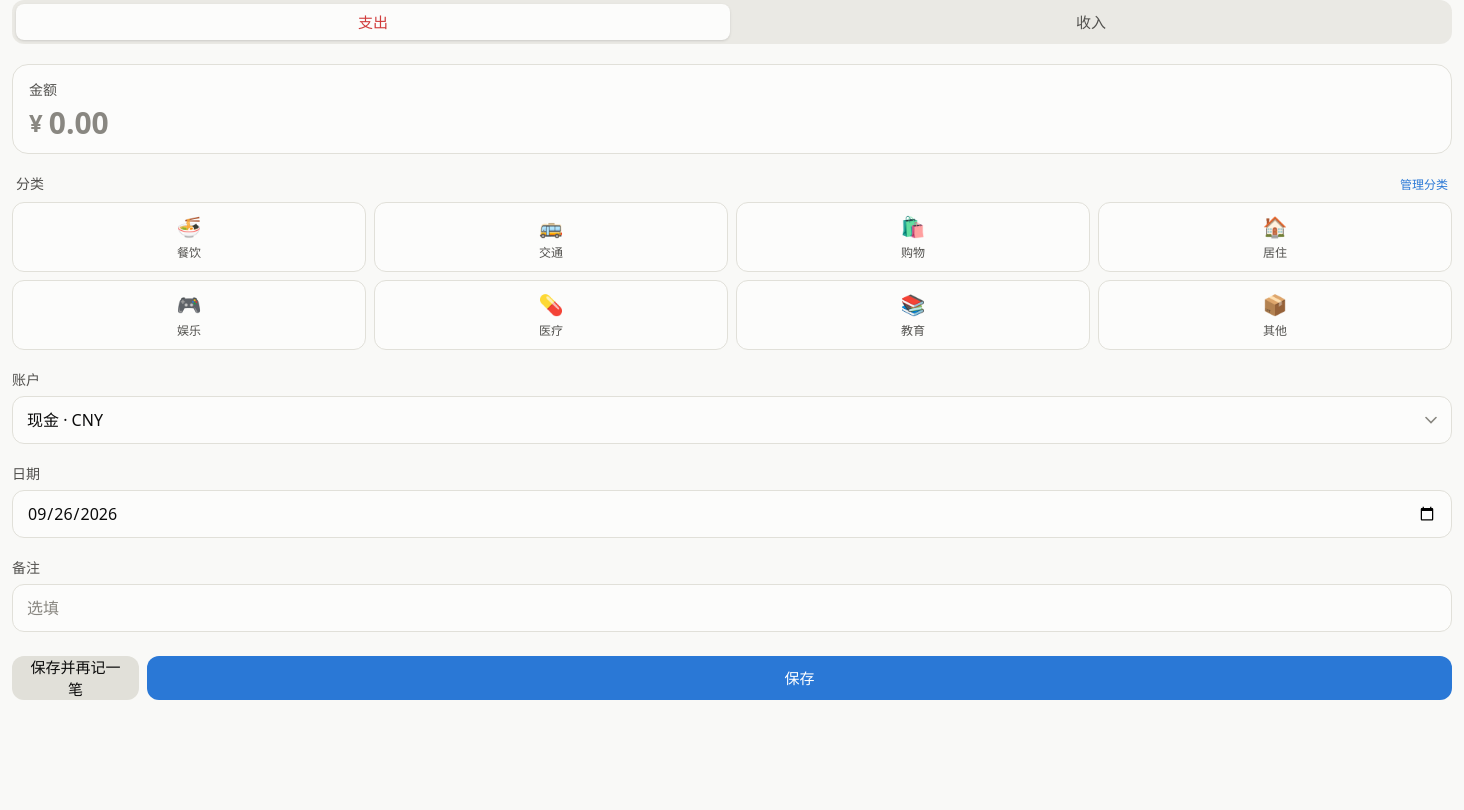
记一笔 › 没选分类就保存 → 提示且不写入
In the field with id "tx-amount": [742, 123] box [49,105,1435,141], type "12.30"
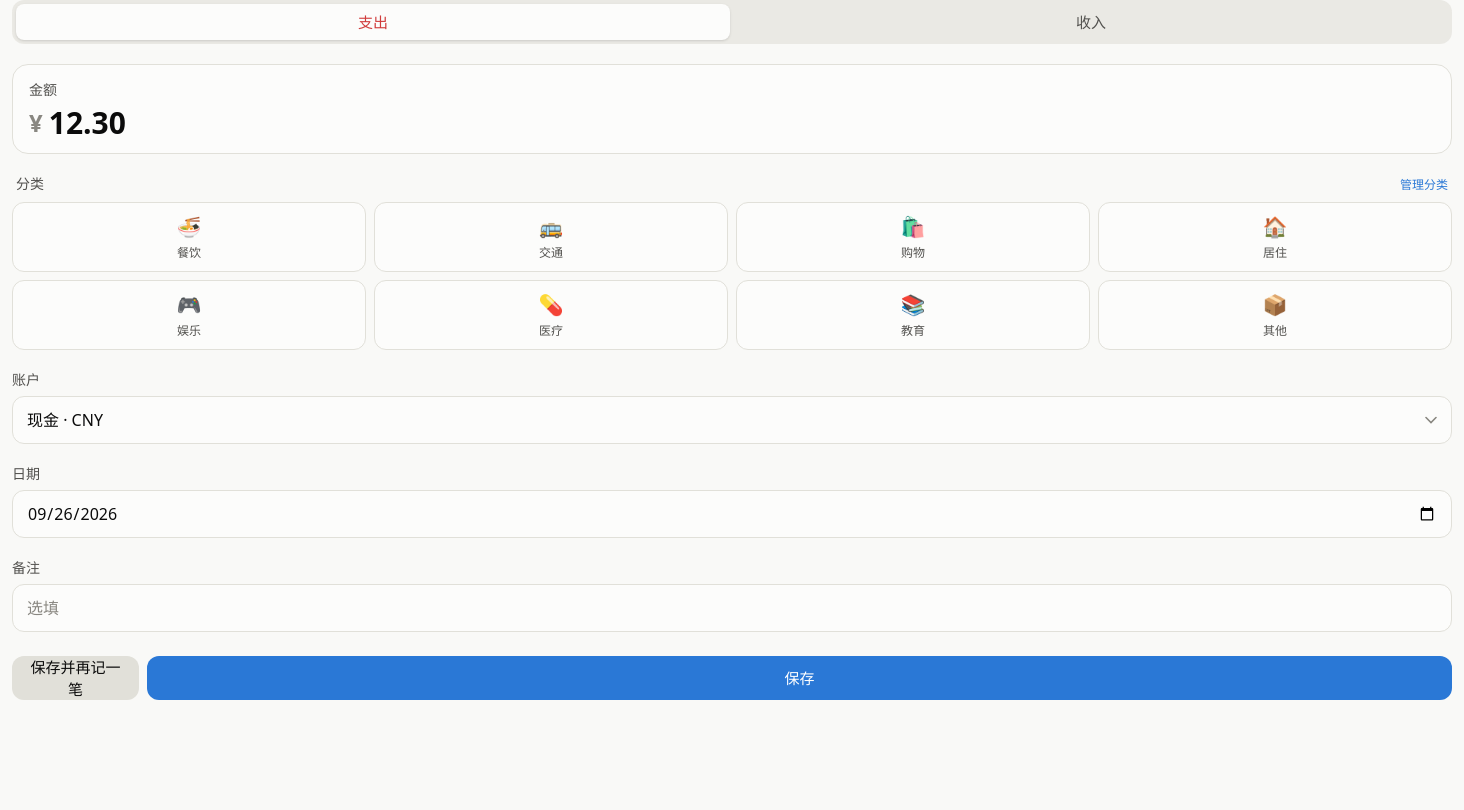
Click the button "保存": [800, 678] box [147,656,1452,700]
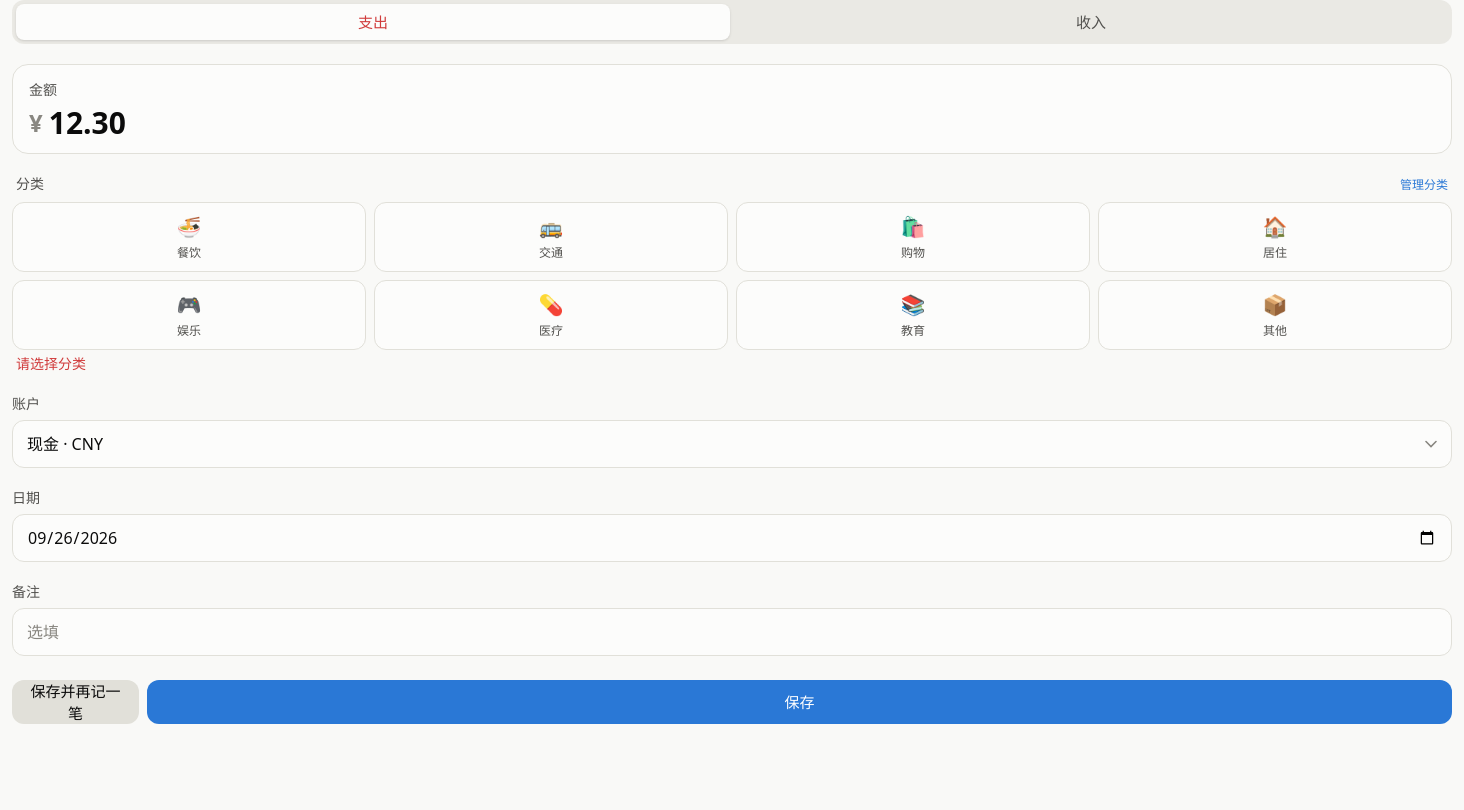
Result: the text "请选择分类" is shown at [16,354,86,373]
